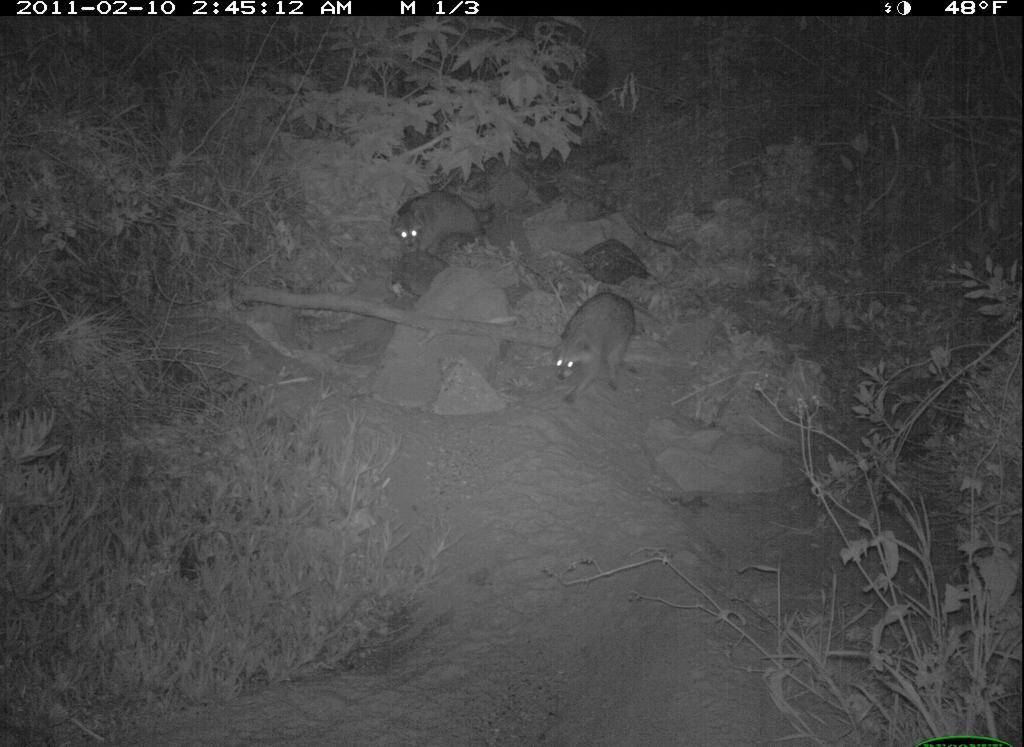raccoon: (548, 274, 643, 408), (385, 187, 500, 264)
